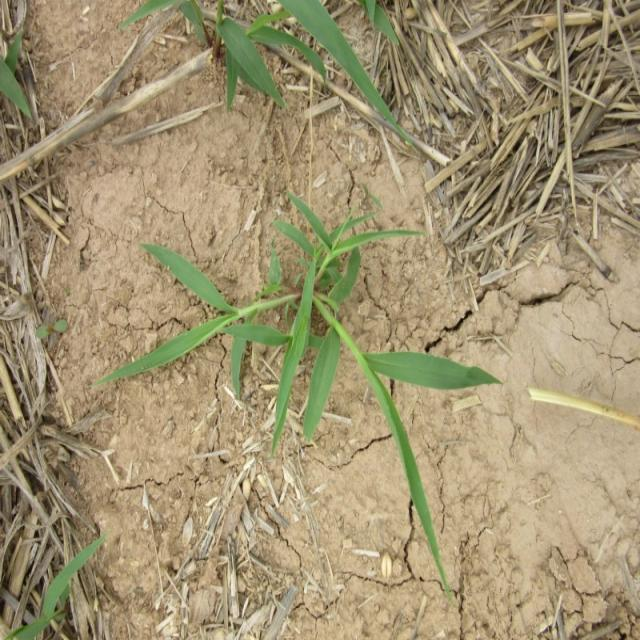bg: (114, 183, 544, 585)
